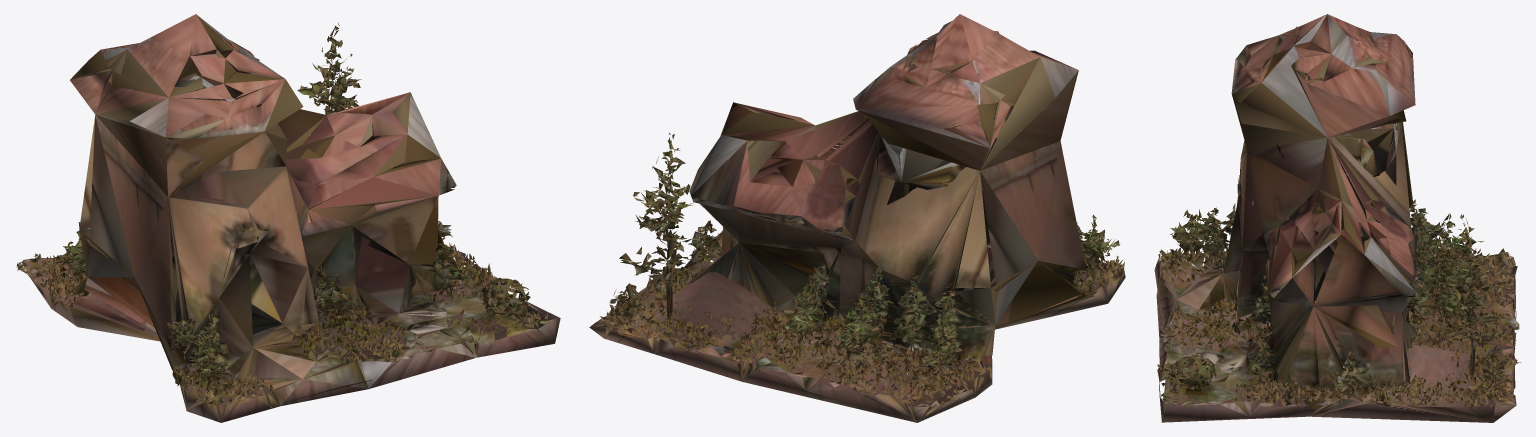
Rendered from Vintage_Stone_Villa_town.glb.
3 renders of one model, left to right at view 1: azimuth 30°, elevation 25°; view 2: azimuth 150°, elevation 25°; view 3: azimuth 270°, elevation 25°, orthographic. The views are drawn at different scales.
Parts seen in each view (by area): view 1: Vintage_Stone_Villa; view 2: Vintage_Stone_Villa; view 3: Vintage_Stone_Villa.
Part boxes in pixels (x1=…): Vintage_Stone_Villa: x1=16, y1=14, x2=560, y2=422; Vintage_Stone_Villa: x1=589, y1=14, x2=1125, y2=422; Vintage_Stone_Villa: x1=1154, y1=14, x2=1520, y2=422.
Size of the model in its own units: 1.89 by 1.64 by 1.87.
Materials: 1 (1 with a texture image).
